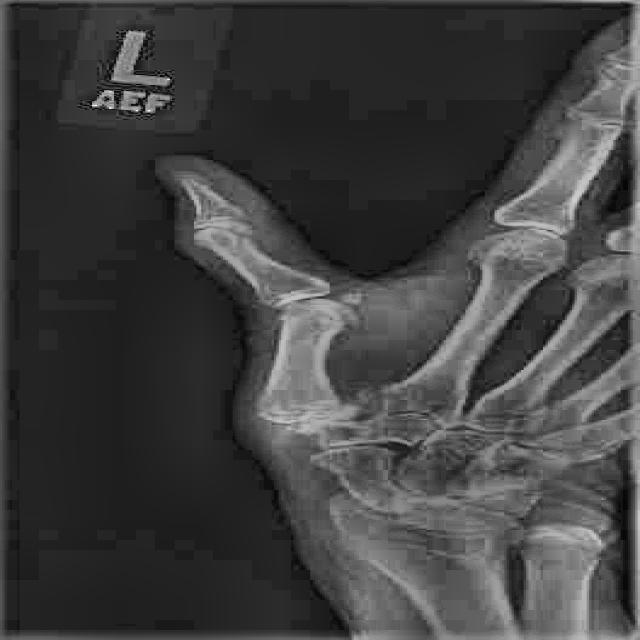fingers positive: (270, 291, 377, 340), (175, 212, 268, 257)
